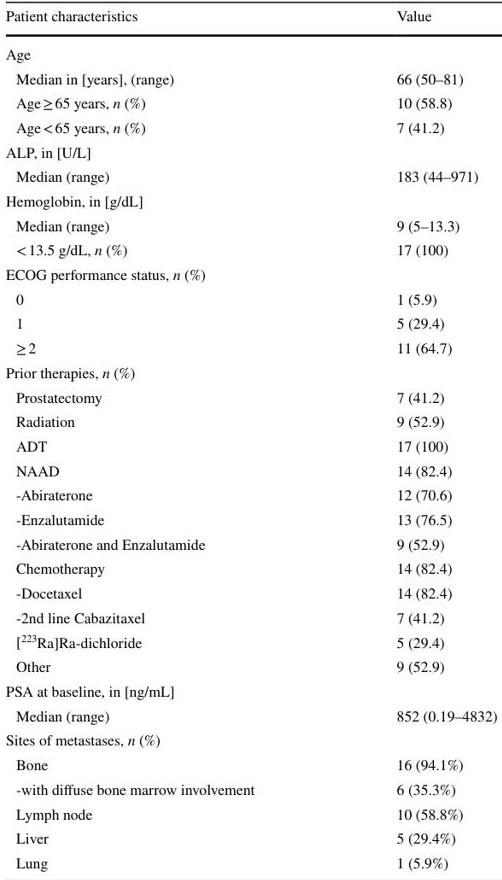table: (5, 5, 496, 874)
table column: (5, 5, 324, 874), (324, 5, 496, 874)
table column header: (5, 5, 496, 35)
table projected row header: (5, 35, 496, 66), (5, 262, 496, 287), (5, 360, 496, 385), (5, 679, 496, 704), (5, 728, 496, 753), (5, 140, 496, 164), (5, 189, 496, 213)
table row: (5, 35, 496, 66), (5, 5, 496, 35), (5, 629, 496, 655), (5, 66, 496, 91), (5, 115, 496, 140), (5, 164, 496, 189), (5, 213, 496, 238), (5, 262, 496, 287), (5, 311, 496, 336), (5, 360, 496, 385), (5, 409, 496, 434), (5, 458, 496, 483), (5, 507, 496, 532), (5, 556, 496, 581), (5, 679, 496, 704), (5, 728, 496, 753), (5, 777, 496, 802), (5, 826, 496, 851), (5, 91, 496, 115), (5, 140, 496, 164), (5, 189, 496, 213), (5, 238, 496, 262), (5, 287, 496, 311), (5, 336, 496, 360), (5, 385, 496, 409), (5, 434, 496, 458), (5, 483, 496, 507), (5, 532, 496, 556), (5, 581, 496, 605), (5, 605, 496, 629), (5, 655, 496, 679), (5, 704, 496, 728), (5, 753, 496, 777), (5, 802, 496, 826), (5, 851, 496, 874)
